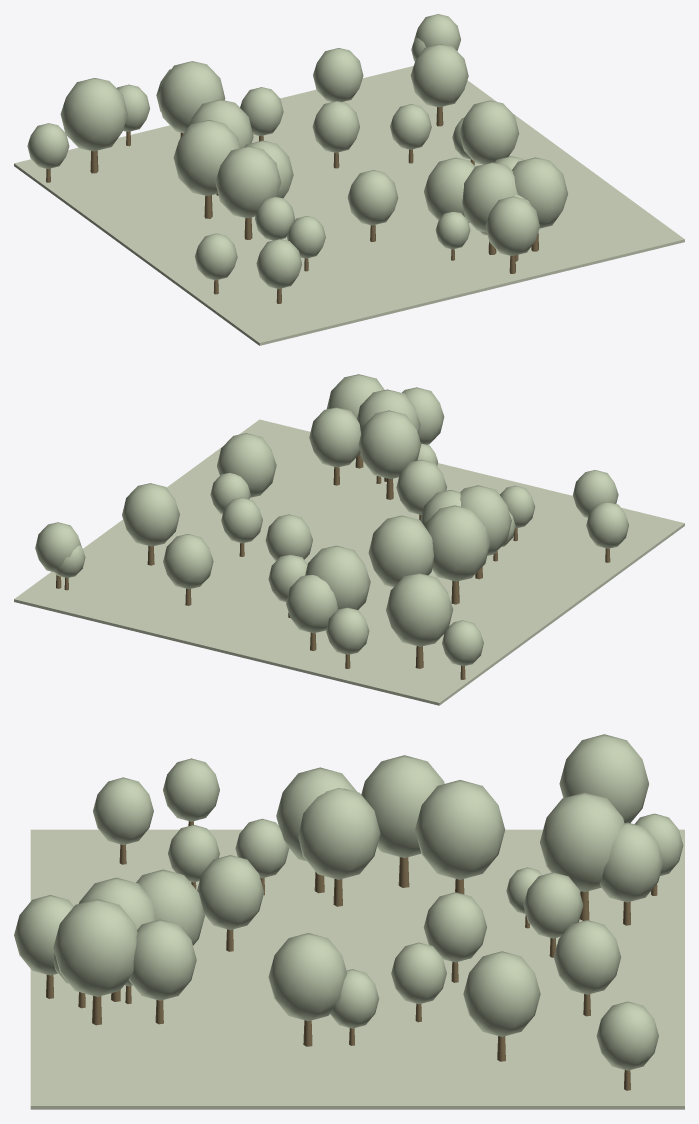
3 renders of one model, top to bottom at view 1: azimuth 30°, elevation 25°; view 2: azimuth 150°, elevation 25°; view 3: azimuth 270°, elevation 25°, orthographic. The views are drawn at different scales.
Visible parts, largest first — view 1: terrain, lod-near-15, lod-near-1, lod-near-24, lod-near-10, lod-near-30, lod-near-6, lod-near-31, lod-near-13, lod-near-3, lod-near-21, lod-near-0 (+14 smaller); view 2: terrain, lod-near-15, lod-near-24, lod-near-19, lod-near-28, lod-near-6, lod-near-10, lod-near-30, lod-near-9, lod-near-20, lod-near-0, lod-near-1 (+16 smaller); view 3: terrain, lod-near-19, lod-near-31, lod-near-29, lod-near-10, lod-near-30, lod-near-24, lod-near-15, lod-near-6, lod-near-9, lod-near-0, lod-near-21 (+16 smaller).
Boxes of the visible parts, x1=… form: terrain: x1=14, y1=66, x2=684, y2=345; lod-near-15: x1=60, y1=78, x2=127, y2=151; lod-near-1: x1=215, y1=146, x2=281, y2=218; lod-near-24: x1=173, y1=120, x2=240, y2=195; lod-near-10: x1=158, y1=61, x2=225, y2=133; lod-near-30: x1=459, y1=100, x2=519, y2=164; lod-near-6: x1=410, y1=44, x2=468, y2=107; lod-near-31: x1=512, y1=157, x2=567, y2=228; lod-near-13: x1=485, y1=196, x2=539, y2=255; lod-near-3: x1=462, y1=162, x2=517, y2=232; lod-near-21: x1=347, y1=170, x2=398, y2=225; lod-near-0: x1=313, y1=48, x2=363, y2=101; terrain: x1=14, y1=419, x2=684, y2=705; lod-near-15: x1=386, y1=573, x2=453, y2=646; lod-near-24: x1=425, y1=505, x2=490, y2=581; lod-near-19: x1=368, y1=515, x2=433, y2=587; lod-near-28: x1=358, y1=410, x2=421, y2=478; lod-near-6: x1=122, y1=483, x2=179, y2=546; lod-near-10: x1=305, y1=545, x2=370, y2=609; lod-near-30: x1=217, y1=433, x2=276, y2=497; lod-near-9: x1=309, y1=407, x2=360, y2=467; lod-near-20: x1=286, y1=575, x2=337, y2=633; lod-near-0: x1=163, y1=534, x2=213, y2=589; lod-near-1: x1=460, y1=485, x2=511, y2=555; terrain: x1=30, y1=829, x2=684, y2=1109; lod-near-19: x1=415, y1=780, x2=505, y2=879; lod-near-31: x1=53, y1=899, x2=137, y2=996; lod-near-29: x1=298, y1=788, x2=380, y2=879; lod-near-10: x1=540, y1=792, x2=624, y2=891; lod-near-30: x1=268, y1=933, x2=346, y2=1021; lod-near-24: x1=361, y1=755, x2=444, y2=858; lod-near-15: x1=559, y1=734, x2=648, y2=823; lod-near-6: x1=463, y1=951, x2=540, y2=1036; lod-near-9: x1=129, y1=919, x2=196, y2=1000; lod-near-0: x1=554, y1=920, x2=621, y2=994; lod-near-21: x1=197, y1=855, x2=264, y2=929.
Bounding box in the file's own units: 32.96 × 7.18 × 32.82.
